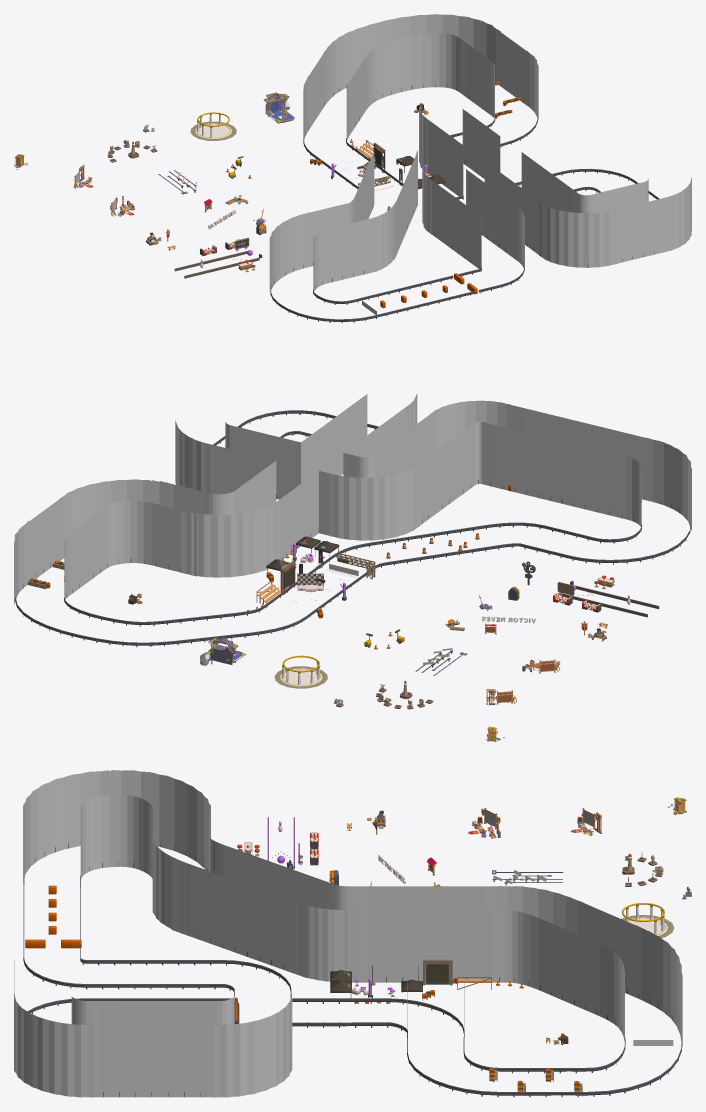
Rendered from areas.glb.
The picture shows the model from 3 angles, top to bottom: view 1: azimuth 30°, elevation 25°; view 2: azimuth 150°, elevation 25°; view 3: azimuth 270°, elevation 25°; orthographic projection. The views are drawn at different scales.
Parts seen in each view (by area): view 1: trimesh, refRailsPhysicalFixed, physicalFixed.005, Cube.088, Cube.089, refBumpersPhysicalKinematicPositionBased; view 2: trimesh, refRailsPhysicalFixed, Cube.088, physicalFixed.005, Cube.089, refBumpersPhysicalKinematicPositionBased; view 3: trimesh, refRailsPhysicalFixed, physicalFixed.005, Cube.088.
Part boxes in pixels (x1,y1,x2,y2): trimesh: [269, 14, 691, 295]; refRailsPhysicalFixed: [270, 83, 659, 323]; physicalFixed.005: [190, 112, 236, 140]; Cube.088: [310, 140, 404, 191]; Cube.089: [263, 92, 294, 123]; refBumpersPhysicalKinematicPositionBased: [174, 251, 259, 278]; trimesh: [14, 394, 691, 604]; refRailsPhysicalFixed: [15, 410, 690, 647]; Cube.088: [256, 543, 375, 618]; physicalFixed.005: [274, 655, 327, 688]; Cube.089: [200, 637, 246, 664]; refBumpersPhysicalKinematicPositionBased: [561, 585, 659, 617]; trimesh: [14, 770, 682, 1097]; refRailsPhysicalFixed: [23, 842, 682, 1097]; physicalFixed.005: [621, 903, 674, 938]; Cube.088: [350, 959, 491, 1000].
Size of the model in its own units: 173 by 21.87 by 170.
Materials: 27 (13 with a texture image).
